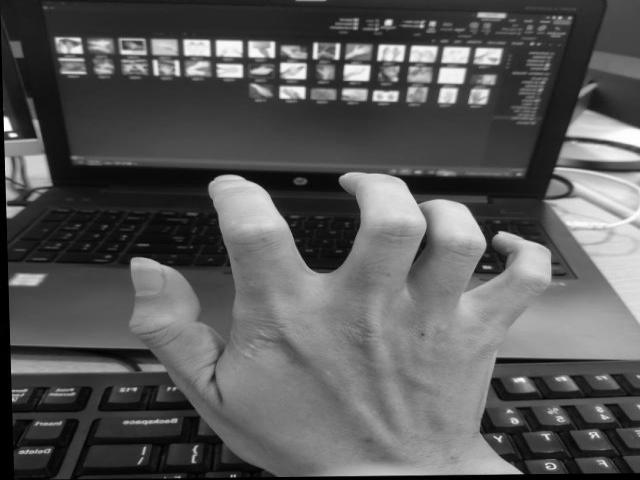not-gloved: (130, 171, 556, 476)
